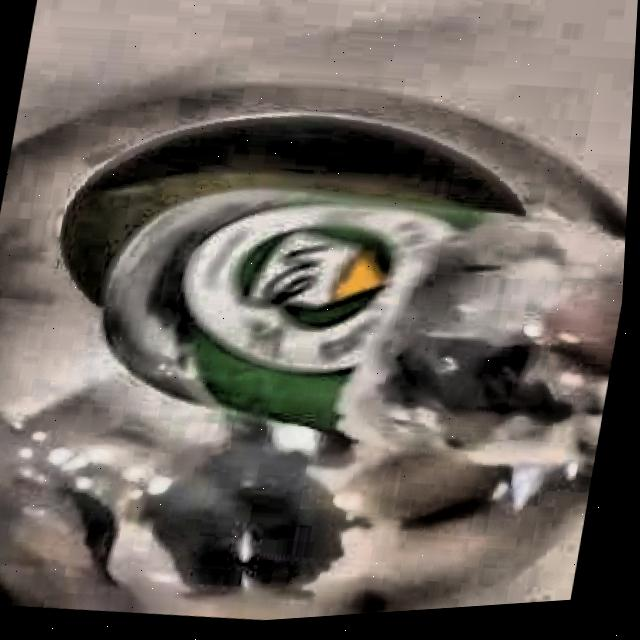glass: (106, 191, 629, 474)
